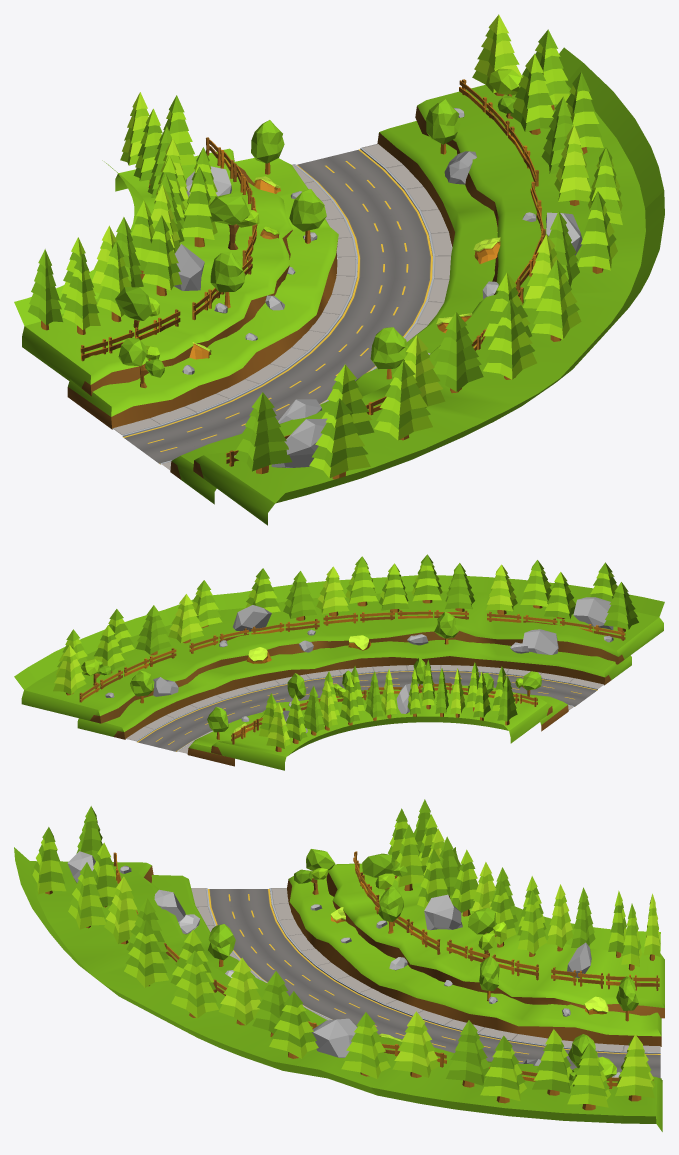
Rendered from cityturn.fbx.
The picture shows the model from 3 angles, top to bottom: view 1: azimuth 30°, elevation 25°; view 2: azimuth 150°, elevation 25°; view 3: azimuth 270°, elevation 25°; orthographic projection. The views are drawn at different scales.
Visible parts, largest first — view 1: Turnmap; view 2: Turnmap; view 3: Turnmap.
Part boxes in pixels (<box>): Turnmap: <box>14,14,664,525</box>; Turnmap: <box>14,554,664,770</box>; Turnmap: <box>14,799,664,1131</box>.
Size of the model in its own units: 15594 by 2577 by 15715.
1 material, 1 textured.
